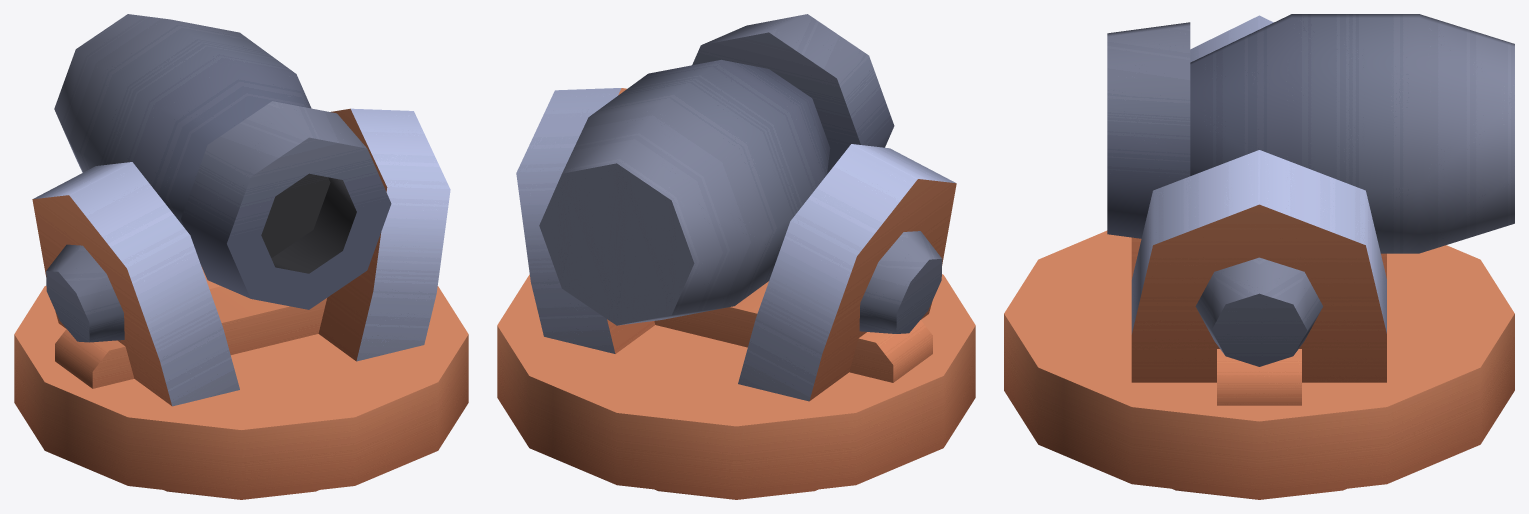
The model's file is weapon-cannon.glb.
3 renders of one model, left to right at view 1: azimuth 30°, elevation 25°; view 2: azimuth 150°, elevation 25°; view 3: azimuth 270°, elevation 25°, orthographic. The views are drawn at different scales.
Parts seen in each view (by area): view 1: weapon-cannon, weapon-cannon.001; view 2: weapon-cannon, weapon-cannon.001; view 3: weapon-cannon, weapon-cannon.001.
Part boxes in pixels (x1=…): weapon-cannon: x1=14, y1=108, x2=468, y2=499; weapon-cannon.001: x1=54, y1=14, x2=391, y2=309; weapon-cannon: x1=497, y1=88, x2=975, y2=499; weapon-cannon.001: x1=539, y1=14, x2=894, y2=325; weapon-cannon: x1=1004, y1=15, x2=1514, y2=499; weapon-cannon.001: x1=1107, y1=14, x2=1514, y2=253.
Size of the model in its own units: 1.8 by 1.6 by 1.8.
Materials: 1 (1 with a texture image).
